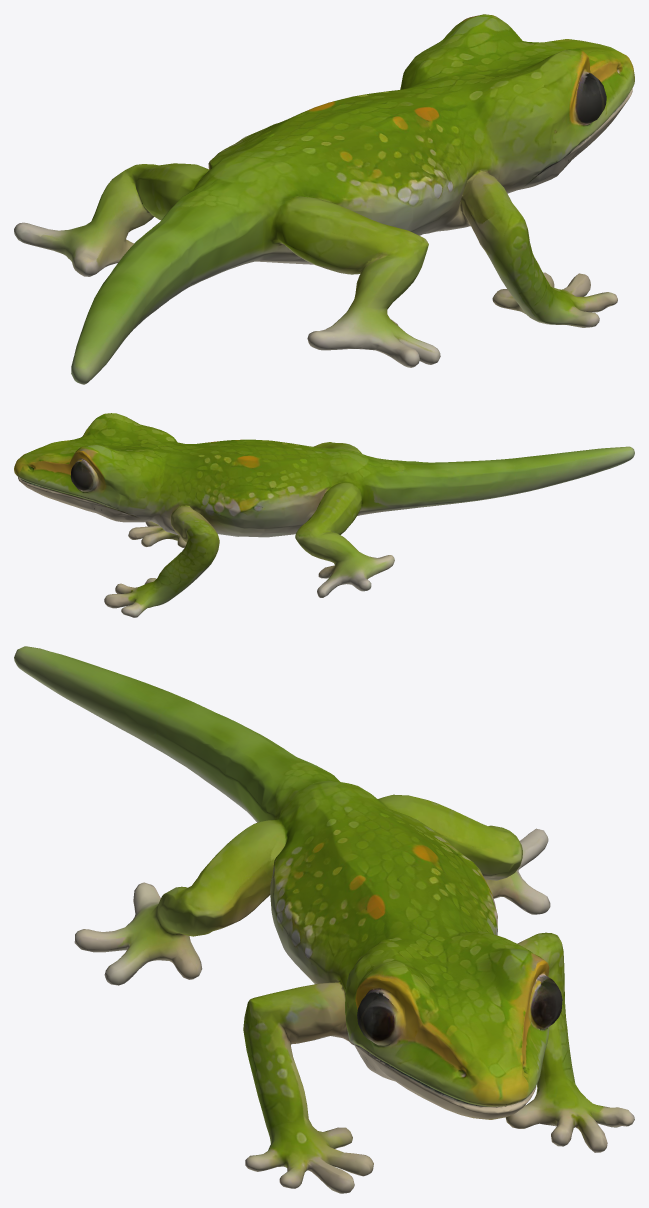
File: hero_gecko.glb
3 views of the same model, one above another, from view 1: azimuth 30°, elevation 25°; view 2: azimuth 150°, elevation 25°; view 3: azimuth 270°, elevation 25° (orthographic). The views are drawn at different scales.
Size of the model in its own units: 0.9995 by 0.2697 by 0.6532.
1 material, 1 textured.
